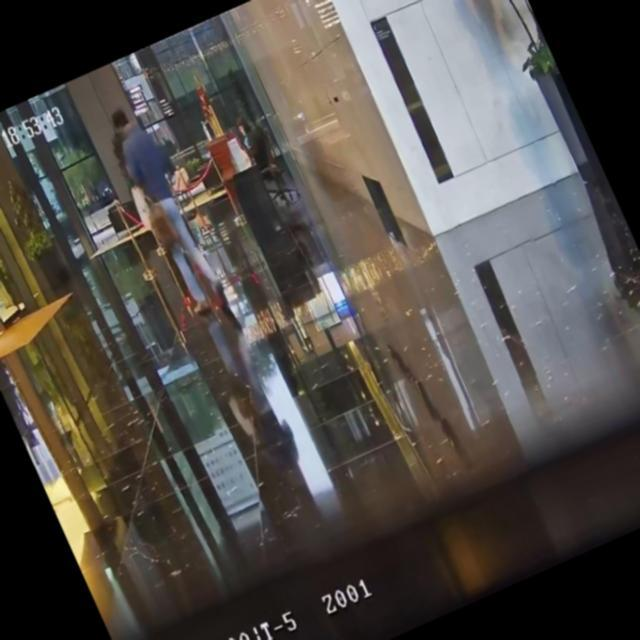person: (100, 95, 237, 323), (230, 106, 284, 184)
